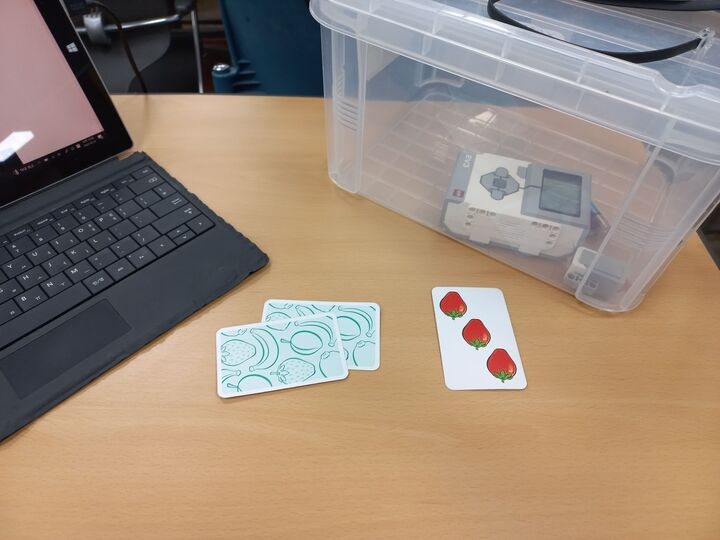strawberry3: (431, 285, 528, 392)
